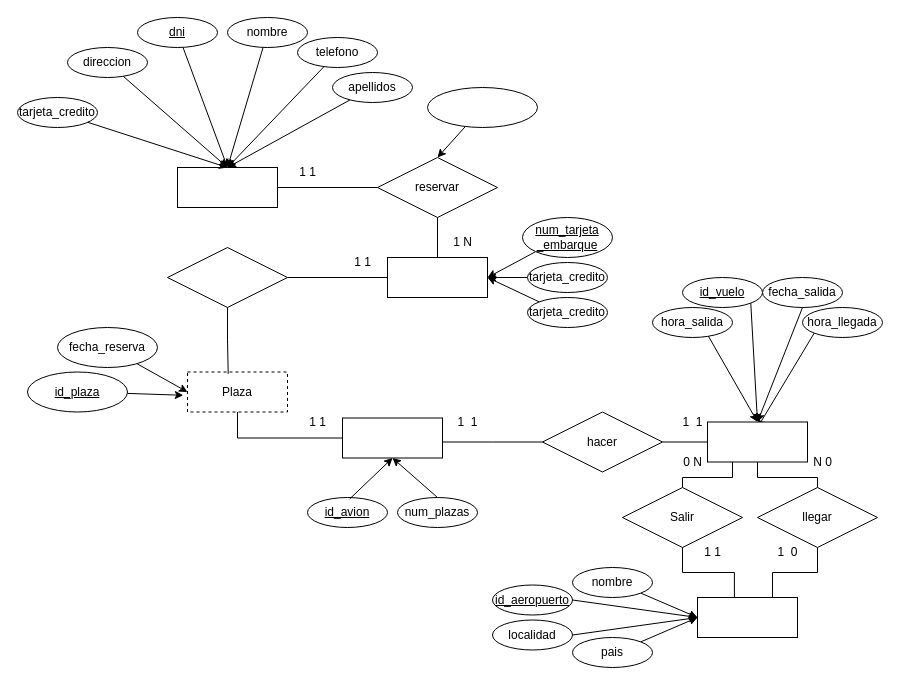
Some shapes in this 900 by 685 pixel diagram are drawn without their labels. The shapes that lost their labels are listed below. From the top down, each one's centre as x and y in pixels, then its label:
At pixel 482 107: "num_asientos".
At pixel 227 187: "Clientes".
At pixel 227 277: "tener".
At pixel 437 277: "Tarjeta embarque".
At pixel 392 437: "Avion".
At pixel 757 441: "Vuelo".
At pixel 747 617: "Aeropuerto".
